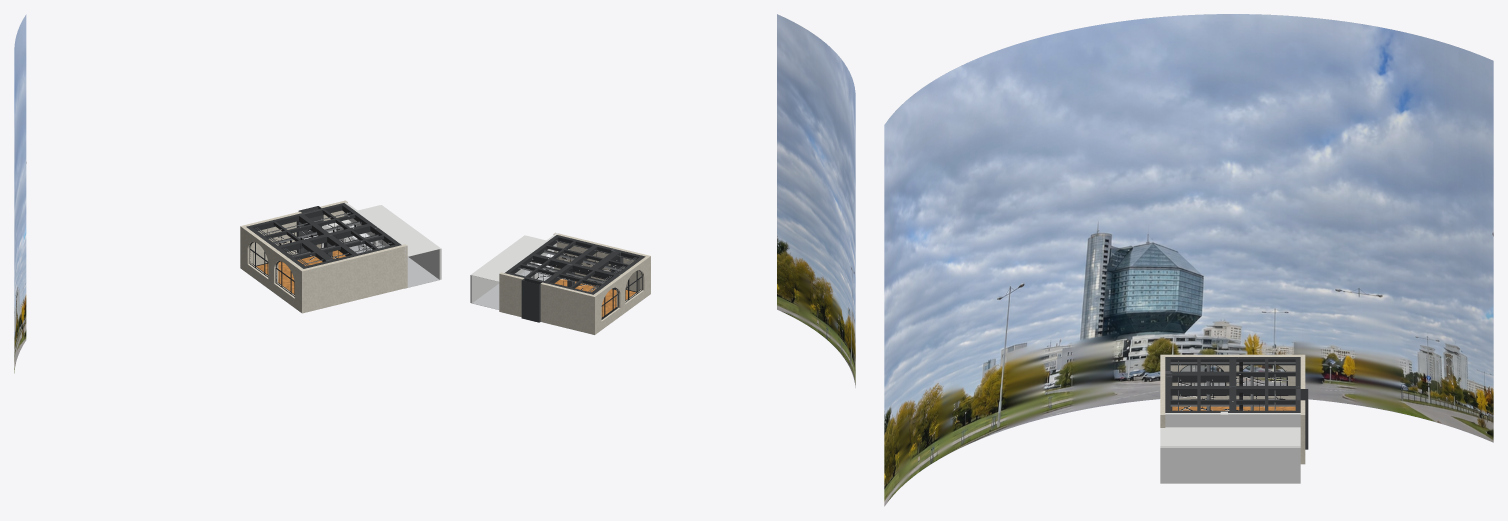
Rendered from arka123.glb.
3 views of the same model, side by side, from view 1: azimuth 30°, elevation 25°; view 2: azimuth 150°, elevation 25°; view 3: azimuth 270°, elevation 25° (orthographic). The views are drawn at different scales.
Parts seen in each view (by area): view 1: Walls, ViewLibrary, CeilingStructure, Corridor, WindowWall, CeilingServices, Floor; view 2: ViewLibrary, Walls, CeilingStructure, Corridor, WindowWall, CeilingServices, Kitchenette, Floor; view 3: ViewLibrary, Corridor, CeilingStructure, WindowWall, CeilingServices, Walls.
Part boxes in pixels (box(x1,y1,x2,y2)): Walls: box(244, 200, 407, 313); ViewLibrary: box(14, 14, 26, 373); CeilingStructure: box(246, 203, 401, 268); Corridor: box(344, 202, 441, 288); WindowWall: box(240, 225, 305, 313); CeilingServices: box(255, 212, 391, 265); Floor: box(256, 250, 345, 293); ViewLibrary: box(777, 14, 855, 387); Walls: box(499, 232, 650, 334); CeilingStructure: box(504, 235, 645, 294); Corridor: box(470, 233, 558, 309); WindowWall: box(591, 255, 650, 334); CeilingServices: box(518, 240, 636, 292); Kitchenette: box(521, 278, 541, 322); Floor: box(554, 279, 635, 317); ViewLibrary: box(884, 14, 1493, 506); Corridor: box(1160, 413, 1300, 483); CeilingStructure: box(1165, 357, 1300, 412); WindowWall: box(1165, 354, 1305, 399); CeilingServices: box(1170, 360, 1295, 410); Walls: box(1160, 354, 1305, 464).
Bounding box in the file's own units: 39.7 × 34.88 × 50.42.
Materials: 19 (3 with a texture image).
